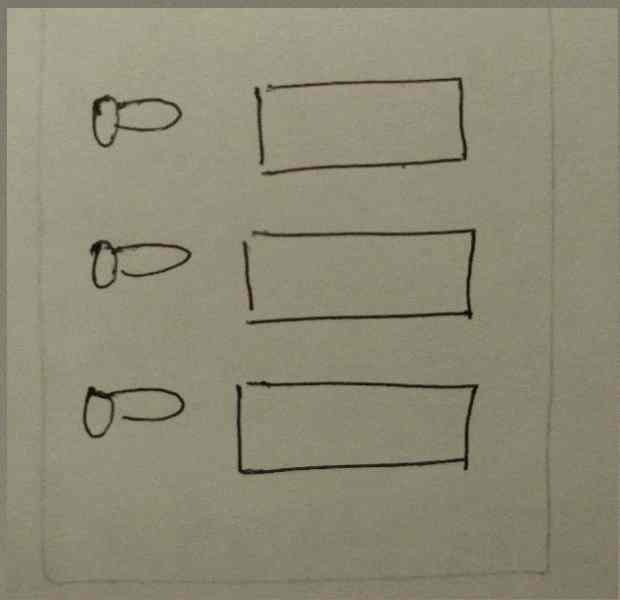switch: (78, 227, 199, 304), (80, 77, 188, 158), (72, 378, 190, 446)
text_input: (219, 367, 493, 485), (227, 214, 484, 336), (241, 70, 477, 186)
